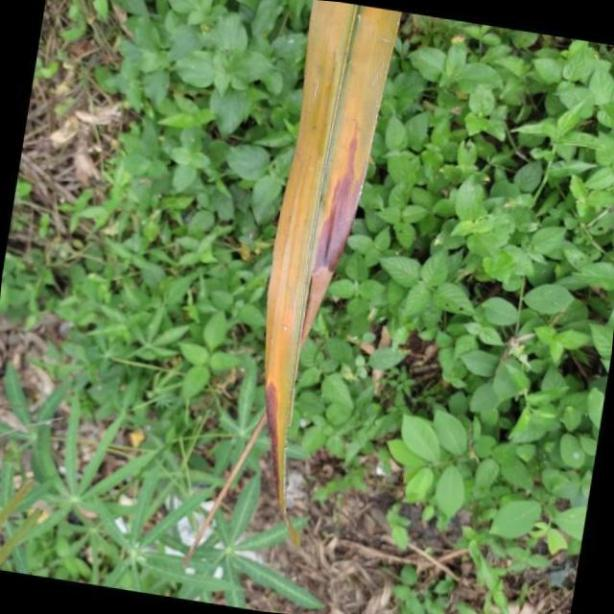Megnesium: (262, 0, 403, 538)
